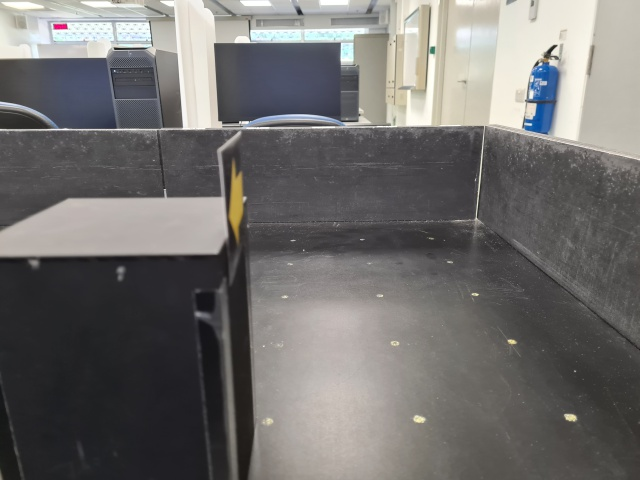right_arrow: (217, 129, 249, 285)
